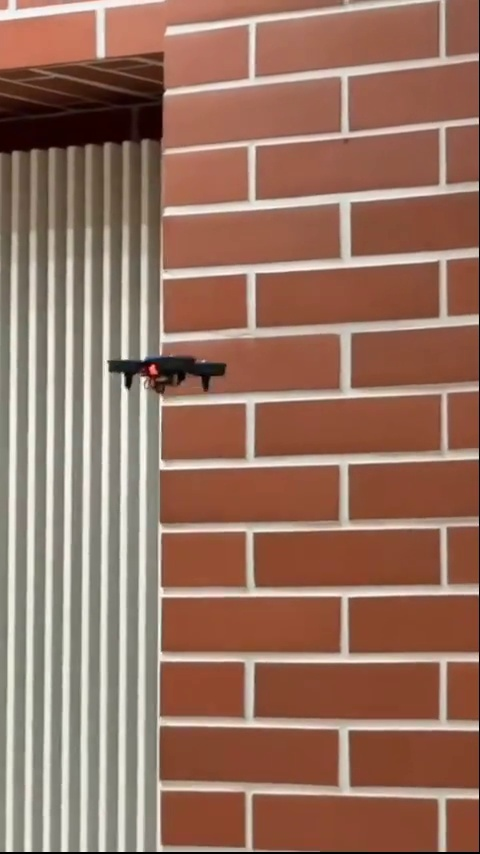drone: (109, 352, 229, 392)
